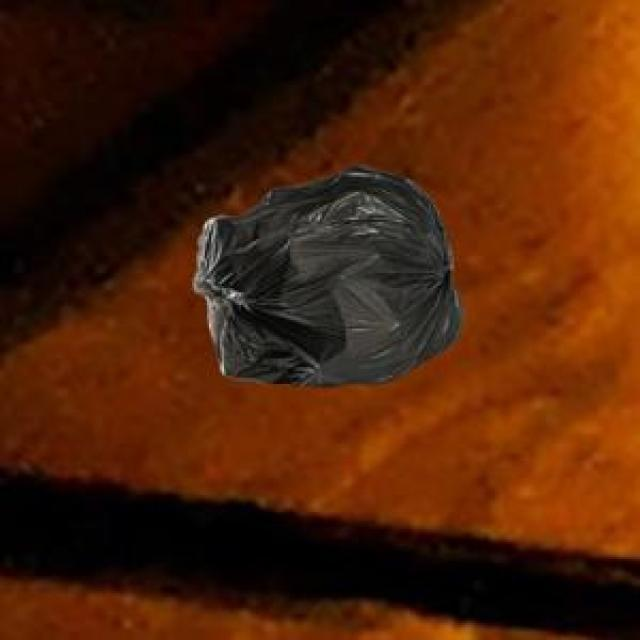miscellaneous trash: (190, 162, 461, 382)
